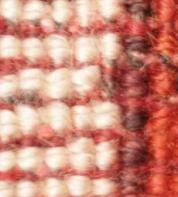Knot: (147, 1, 157, 14)
